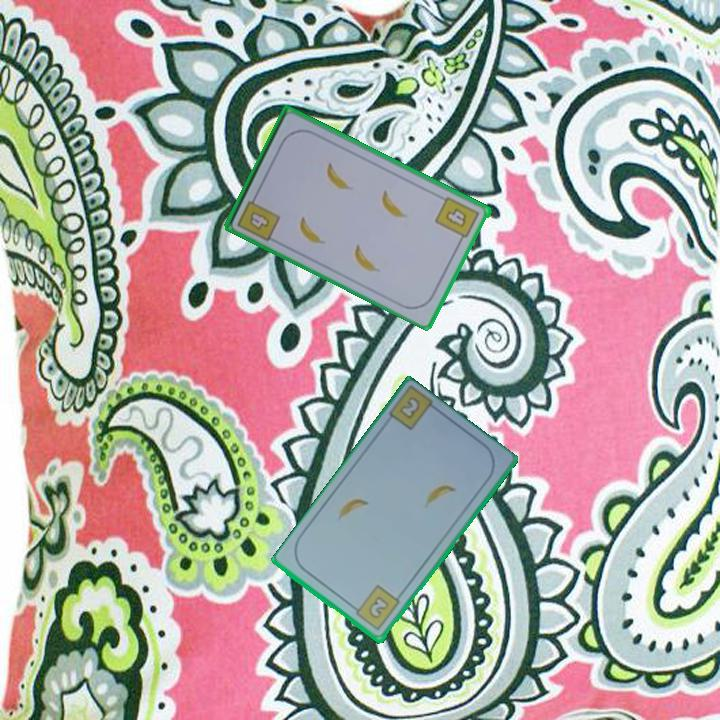2b: (348, 582, 403, 634), (396, 393, 423, 423)
4b: (432, 193, 483, 246), (246, 207, 273, 233)
